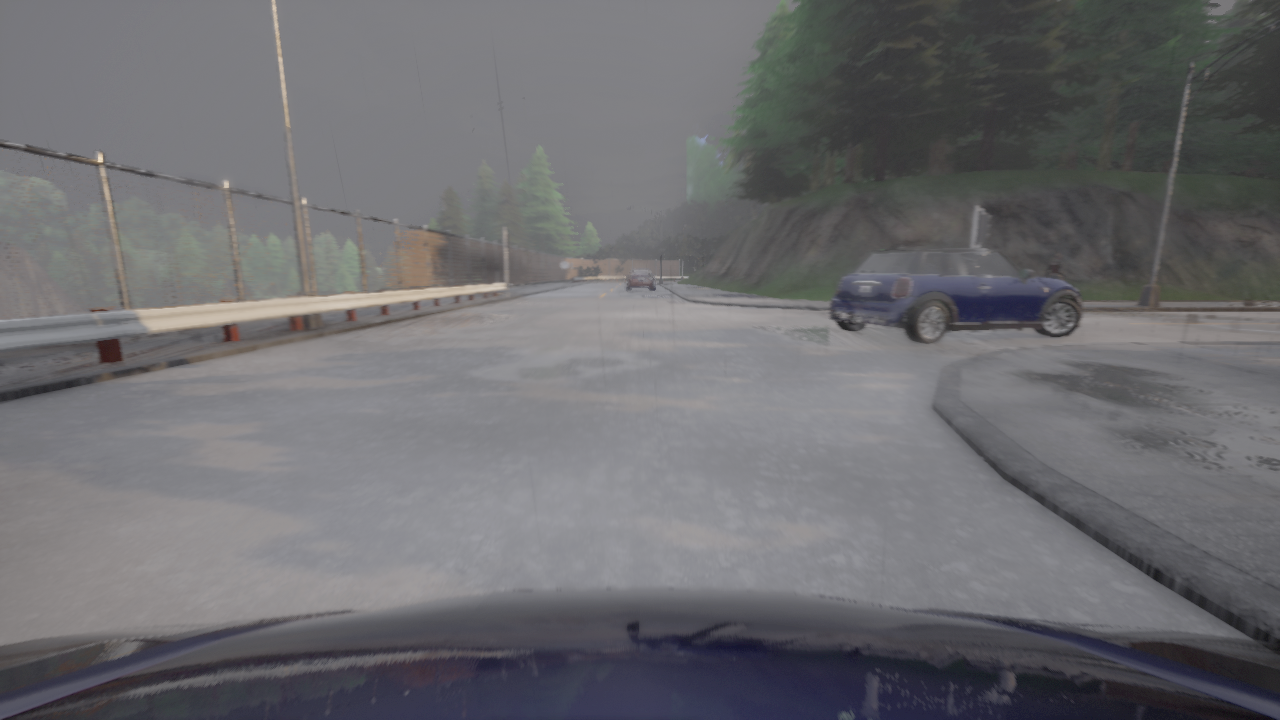cyclist: (0, 588, 1279, 719), (829, 245, 1081, 344), (627, 269, 654, 290)
pedestrian: (1045, 254, 1062, 279)
